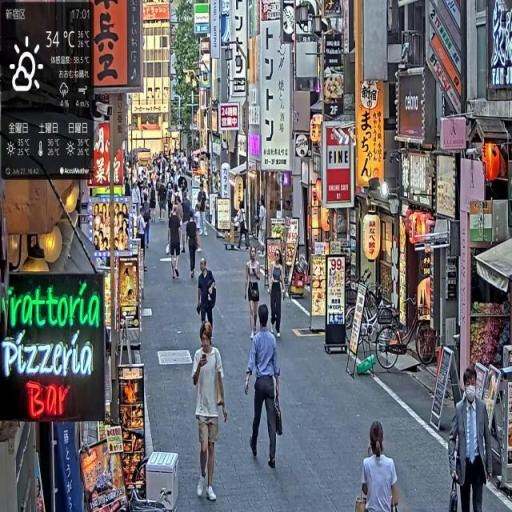person: (448, 365, 495, 512), (192, 320, 228, 502), (244, 305, 283, 471), (359, 421, 401, 512), (245, 244, 263, 339), (197, 259, 218, 335), (267, 253, 285, 340), (169, 203, 183, 282), (186, 210, 202, 279), (197, 181, 211, 239)
